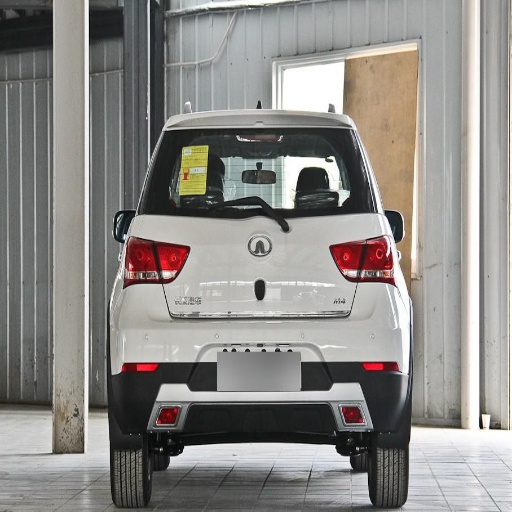back_bumper: (107, 283, 413, 436)
trunk: (136, 214, 389, 342)
